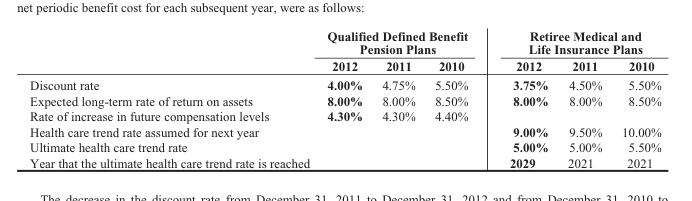table: (29, 28, 660, 169)
table column: (29, 28, 317, 169), (488, 28, 557, 169), (424, 28, 488, 169), (317, 28, 371, 169), (557, 28, 611, 169), (371, 28, 424, 169), (611, 28, 660, 169)
table column header: (29, 28, 660, 75)
table row: (29, 28, 660, 57), (29, 57, 660, 75), (29, 75, 660, 92), (29, 92, 660, 108), (29, 123, 660, 139), (29, 108, 660, 123), (29, 139, 660, 154), (29, 154, 660, 169)
table spanning cell: (488, 28, 660, 57), (317, 28, 488, 57)
